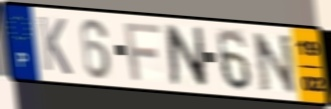6: (215, 27, 253, 93), (78, 16, 113, 81)
F: (122, 21, 163, 83)
K: (36, 13, 74, 78)
N: (163, 22, 210, 90), (250, 31, 299, 96)
